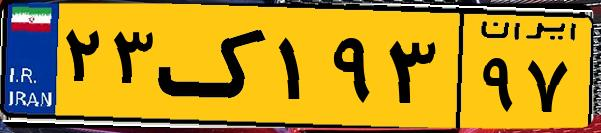1: (270, 28, 330, 110)
2: (57, 26, 110, 100)
3: (385, 28, 445, 110), (110, 28, 158, 98)
7: (525, 38, 570, 115)
9: (330, 28, 385, 110), (475, 38, 525, 113)
ک: (158, 12, 270, 120)
